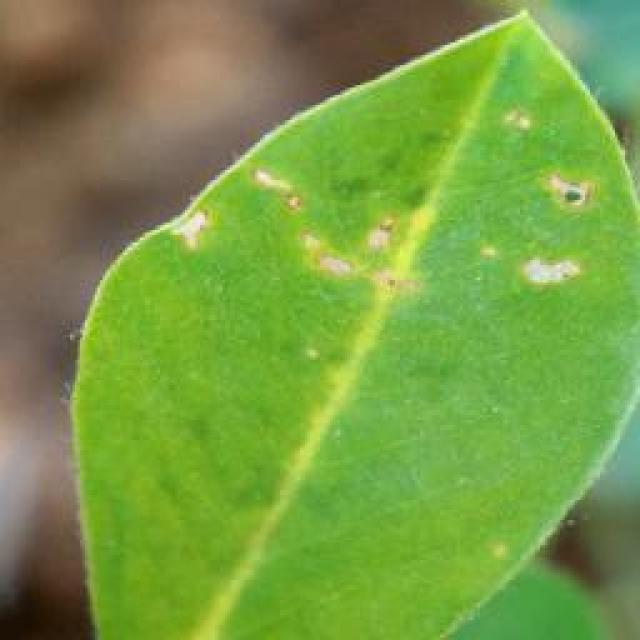Yellow_and_black_sigatoka: (47, 5, 635, 640)
